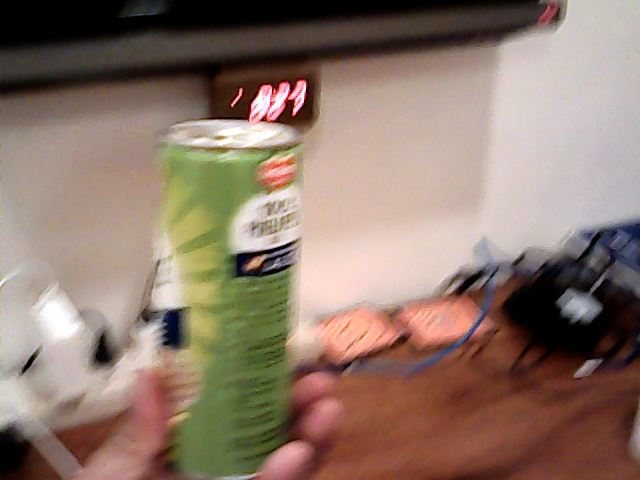Pine Juice: (140, 98, 307, 480)
